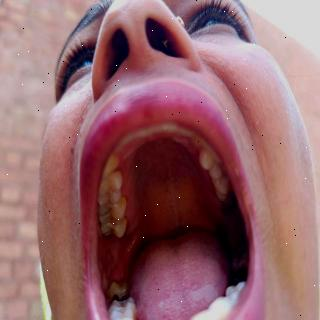cavities: (234, 269, 250, 287), (101, 203, 115, 223), (231, 245, 248, 261), (110, 294, 130, 307)
